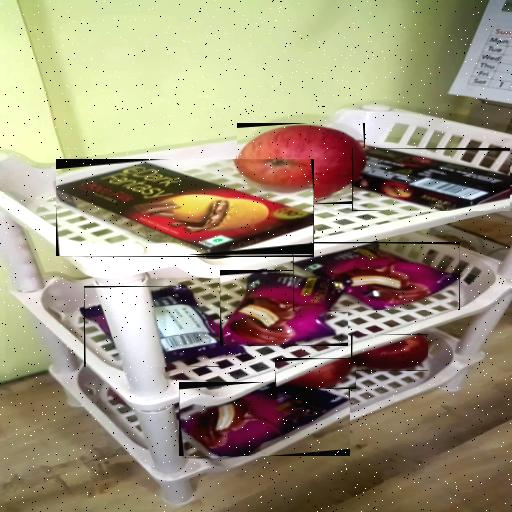Apple: (237, 123, 365, 204), (351, 334, 428, 371), (275, 358, 356, 389)
Choco Fills: (56, 160, 314, 258), (352, 148, 510, 211)
Choco Pie: (179, 382, 350, 456), (293, 242, 460, 310), (84, 286, 219, 367), (220, 270, 348, 346)
